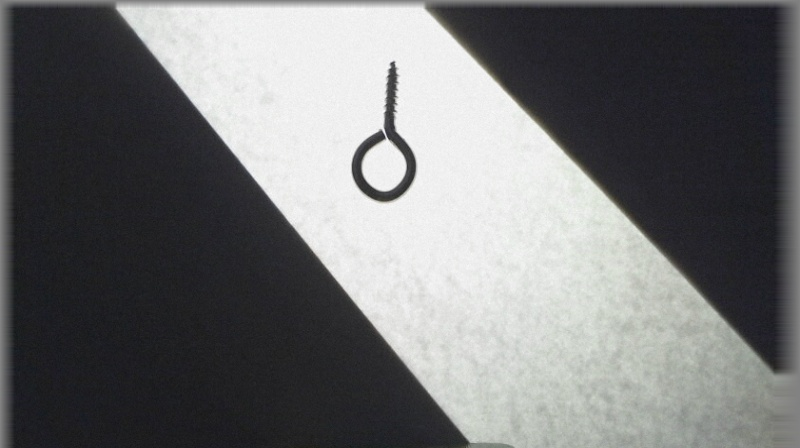O001: (347, 58, 419, 203)
